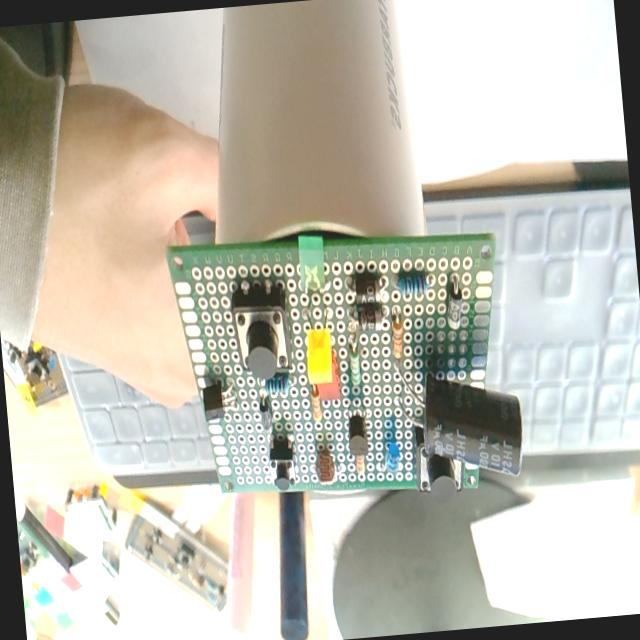Electrolytic capacitor: (392, 355, 530, 486)
cds: (310, 444, 340, 491)
diode: (439, 264, 474, 350), (342, 270, 390, 300), (346, 302, 388, 334), (254, 392, 276, 438)
led: (300, 296, 336, 394), (294, 225, 329, 308), (378, 440, 408, 490)
resistor: (392, 262, 438, 306), (383, 299, 410, 372), (341, 332, 366, 394), (253, 366, 301, 398), (306, 376, 322, 430)
switch: (226, 282, 298, 381), (264, 434, 301, 494)
transistor: (196, 372, 241, 426), (341, 394, 374, 461)
